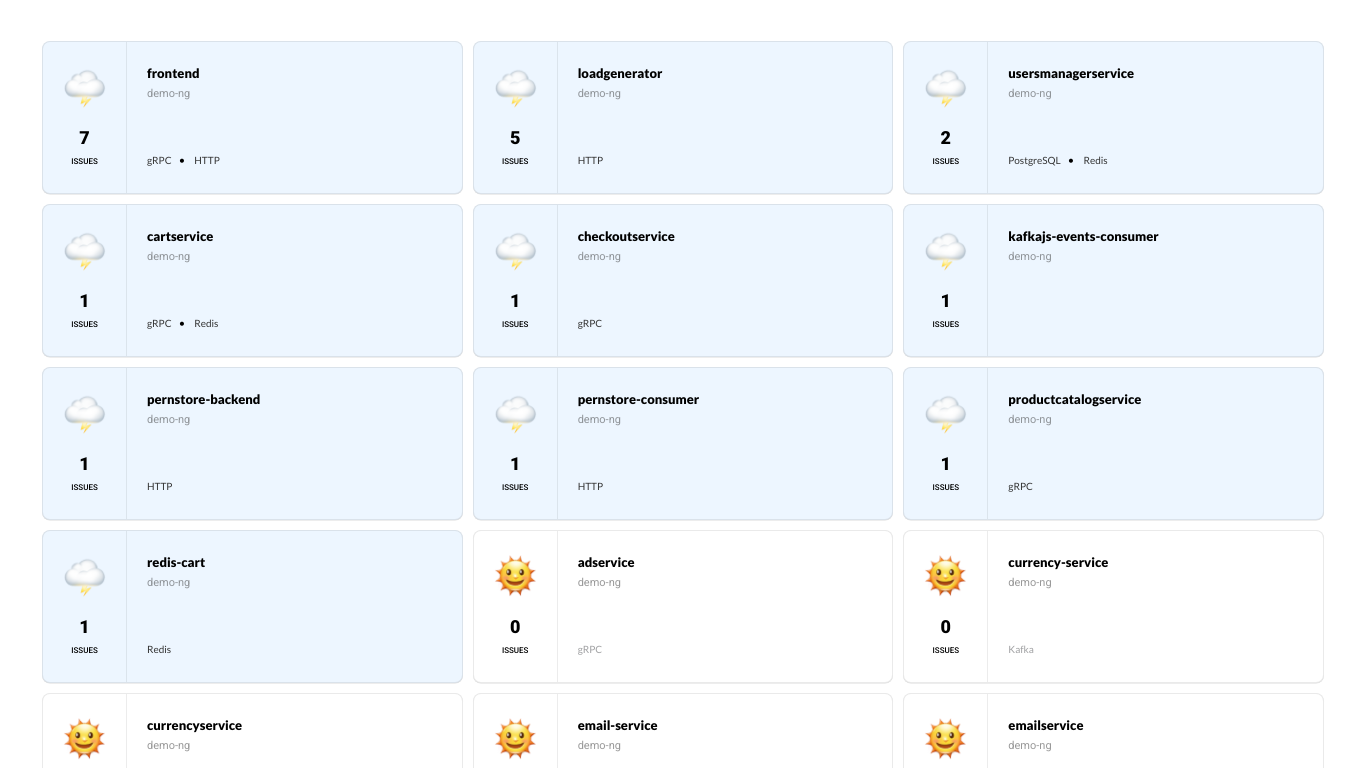
Test: Home page › Drawer Navigation › Click Next
The image size is (1366, 768).
Click the element with test id "fc5b6163a805d9e1" at {"x": 252, "y": 118}, box [42,41,463,194]
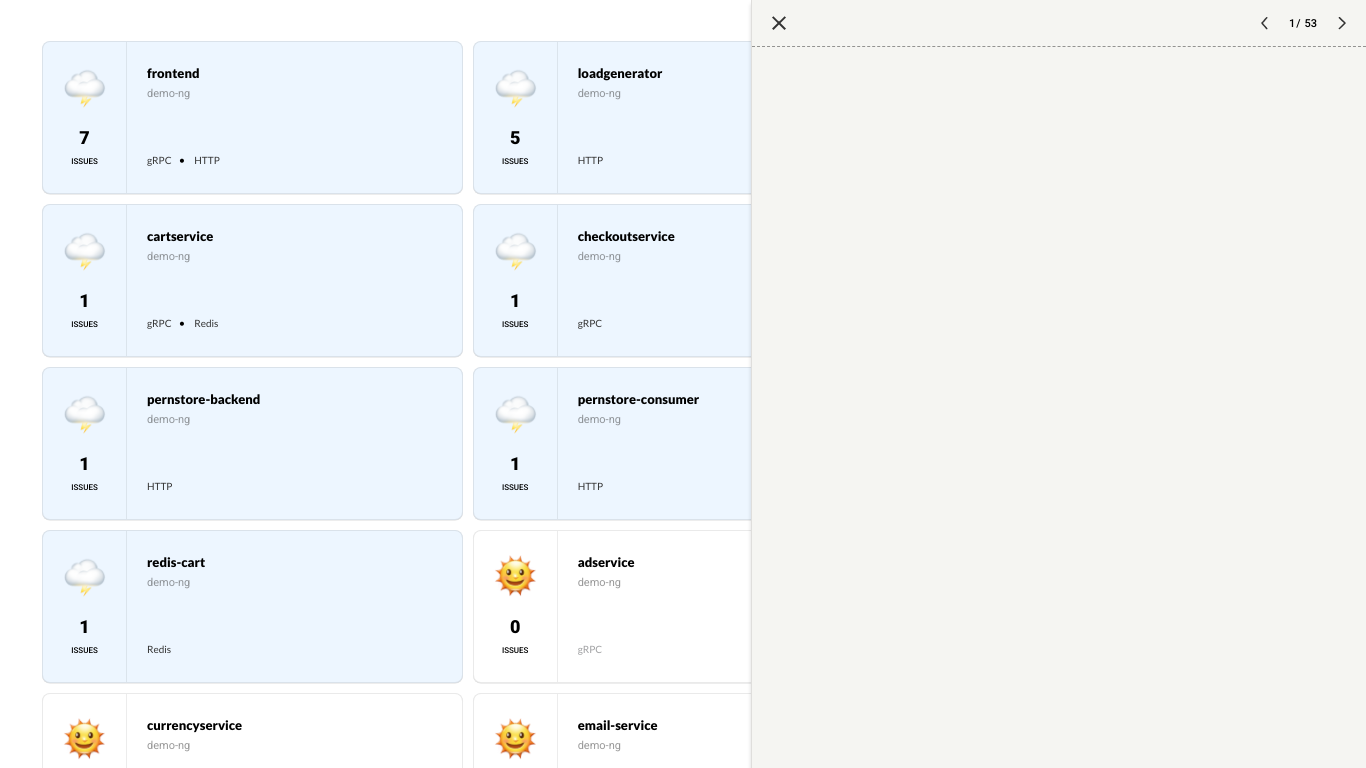
Click the picture with test id "drawer-navigation-btn-next" at {"x": 1342, "y": 23}, box [1338,16,1346,30]
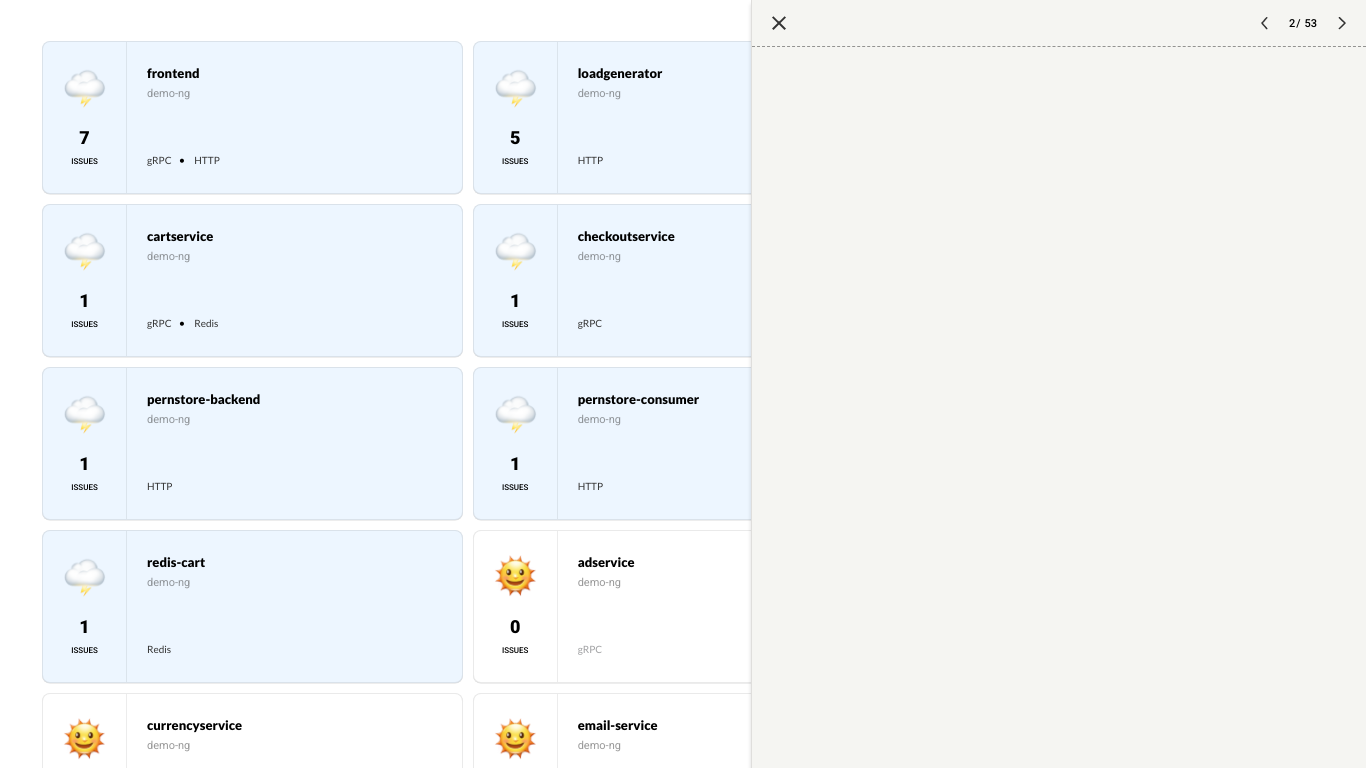
Expected: the text with test id "drawer-navigation-current-index" reads "2", [1289,16,1295,30]
